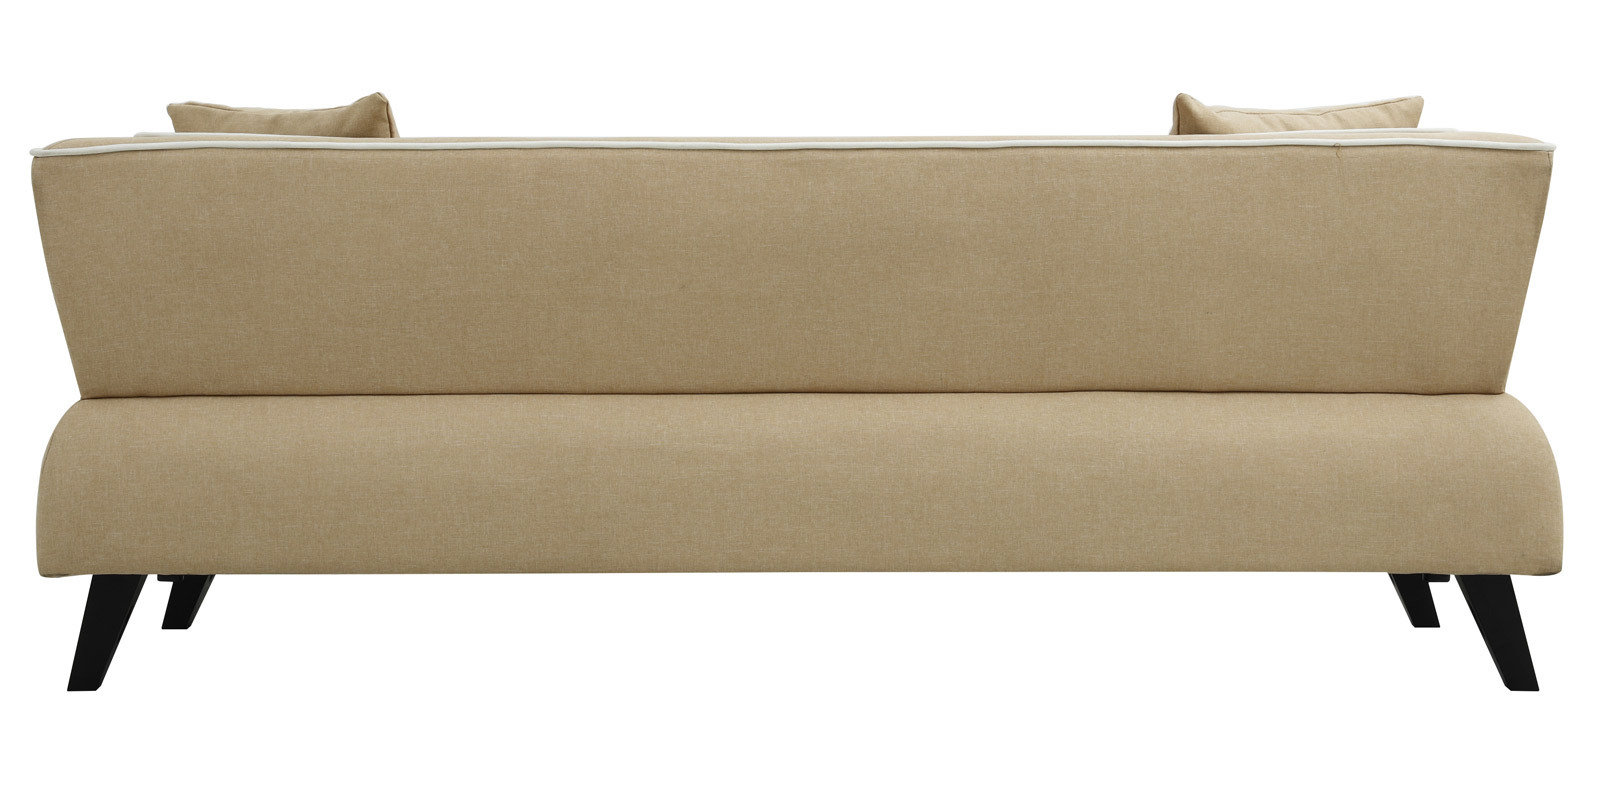Dime Three Seater Sofa in Beige Colour by Zofa: (20, 89, 1570, 719)
